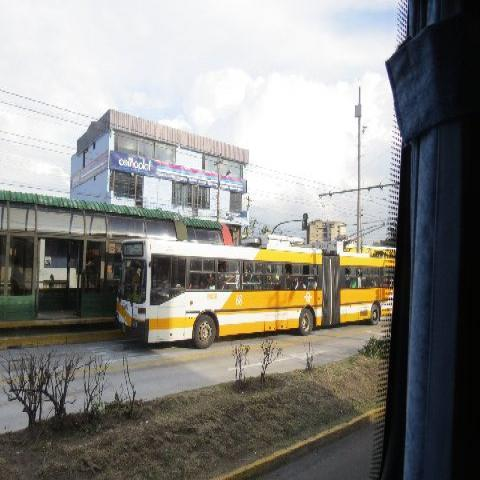bus: (114, 238, 396, 349)
